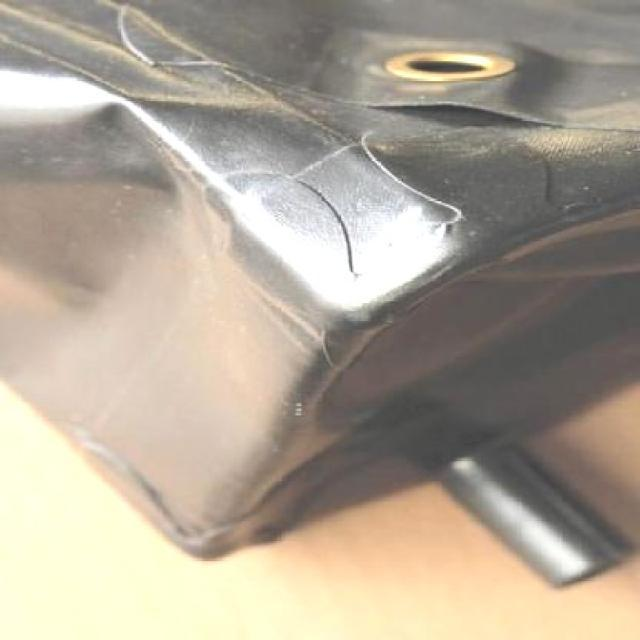crack: (300, 204, 365, 306)
